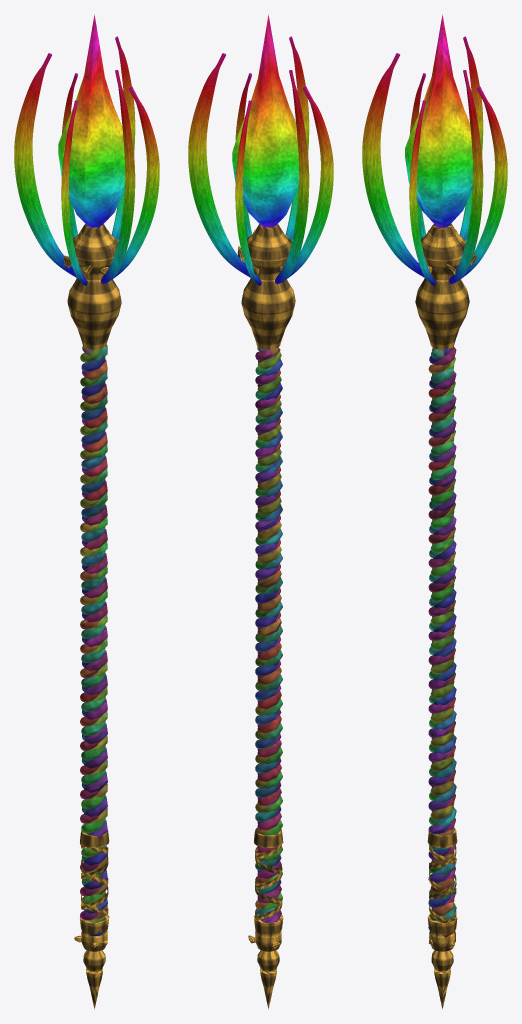
File: staff_spectrum.glb
The picture shows the model from 3 angles, left to right: view 1: azimuth 30°, elevation 25°; view 2: azimuth 150°, elevation 25°; view 3: azimuth 270°, elevation 25°; orthographic projection.
Parts seen in each view (by area): view 1: Gem, Strand3, Strand1, Collar, Blade2, Strand4, Strand0, Blade5, Blade4, Blade3, Blade0, Strand2 (+8 smaller); view 2: Gem, Strand4, Collar, Strand2, Blade0, Strand1, Blade3, Blade2, Strand0, Blade1, Strand3, Blade4 (+7 smaller); view 3: Gem, Strand0, Collar, Strand2, Strand3, Blade4, Blade1, Blade0, Strand4, Blade5, Strand1, Blade2 (+8 smaller).
Boxes of the visible parts, x1,y1,x2,y2 form: Gem: [58, 14, 124, 227]; Strand3: [84, 348, 107, 935]; Strand1: [81, 357, 105, 928]; Collar: [67, 229, 121, 349]; Blade2: [14, 53, 77, 277]; Strand4: [80, 349, 101, 920]; Strand0: [85, 344, 107, 919]; Blade5: [113, 86, 159, 278]; Blade4: [101, 70, 135, 284]; Blade3: [61, 100, 87, 285]; Blade0: [111, 36, 135, 241]; Strand2: [81, 346, 105, 916]; Gem: [232, 14, 298, 227]; Strand4: [257, 351, 281, 922]; Collar: [241, 229, 295, 349]; Strand2: [255, 349, 278, 917]; Blade0: [188, 53, 251, 277]; Strand1: [259, 348, 282, 909]; Blade3: [287, 86, 333, 278]; Blade2: [275, 70, 309, 284]; Strand0: [255, 346, 272, 932]; Blade1: [235, 100, 261, 285]; Strand3: [257, 347, 281, 905]; Blade4: [285, 36, 309, 240]; Gem: [405, 14, 472, 227]; Strand0: [430, 349, 454, 937]; Collar: [415, 229, 469, 349]; Strand2: [433, 346, 456, 922]; Strand3: [428, 362, 450, 930]; Blade4: [362, 53, 425, 277]; Blade1: [461, 86, 507, 278]; Blade0: [449, 70, 483, 284]; Strand4: [431, 348, 455, 909]; Blade5: [409, 100, 435, 285]; Strand1: [429, 349, 450, 920]; Blade2: [459, 36, 483, 241].
Bounding box in the file's own units: 0.2707 × 2.14 × 0.2831.
5 materials, 4 textured.
